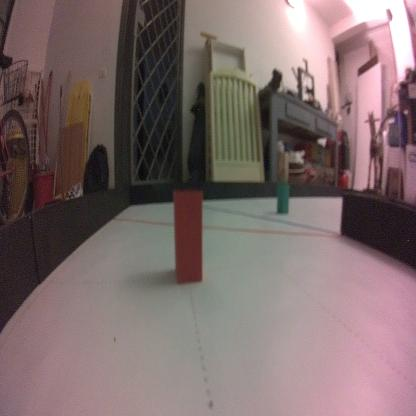green: (276, 180, 290, 216)
red: (172, 184, 205, 288)
